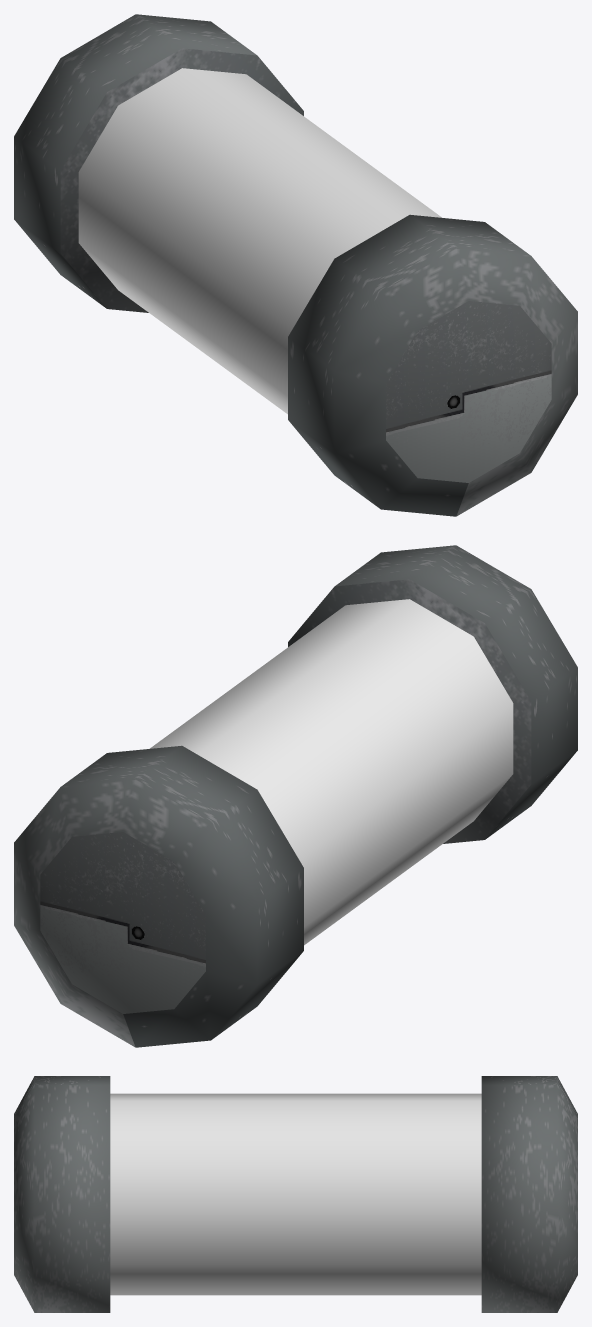
Rendered from Heal_Item_Done.fbx.
3 views of the same model, one above another, from view 1: azimuth 30°, elevation 25°; view 2: azimuth 150°, elevation 25°; view 3: azimuth 270°, elevation 25° (orthographic). The views are drawn at different scales.
Visible parts, largest first — view 1: Cylinder_LP; view 2: Cylinder_LP; view 3: Cylinder_LP.
Part boxes in pixels (bbox=[...]): Cylinder_LP: bbox=[14, 14, 577, 516]; Cylinder_LP: bbox=[14, 545, 577, 1047]; Cylinder_LP: bbox=[14, 1076, 577, 1312].
Size of the model in its own units: 2.37 by 2.49 by 5.82.
2 materials, 1 textured.
